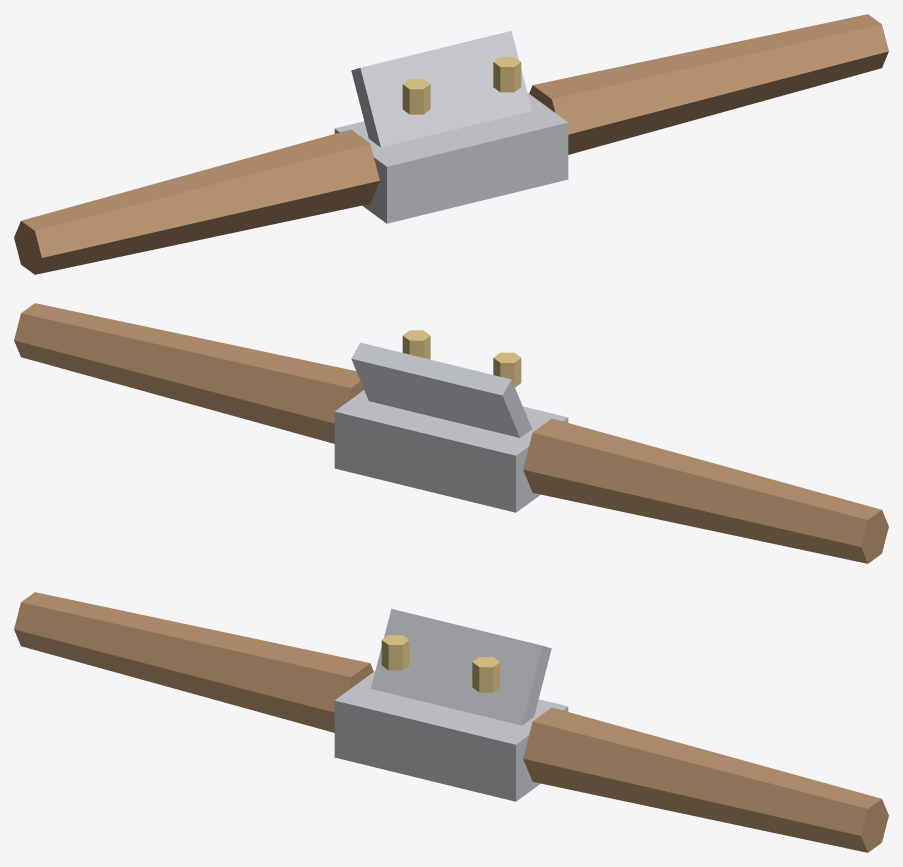
Rendered from prop-spokeshave.fbx.
3 views of the same model, one above another, from view 1: azimuth 30°, elevation 25°; view 2: azimuth 150°, elevation 25°; view 3: azimuth 330°, elevation 25° (orthographic).
Parts seen in each view (by area): view 1: prop-spokeshave; view 2: prop-spokeshave; view 3: prop-spokeshave.
Boxes of the visible parts, left/top/right/bottom form: prop-spokeshave: left=14, top=14, right=888, bottom=274; prop-spokeshave: left=14, top=303, right=888, bottom=563; prop-spokeshave: left=14, top=592, right=888, bottom=852.
Size of the model in its own units: 28 by 3.85 by 3.
